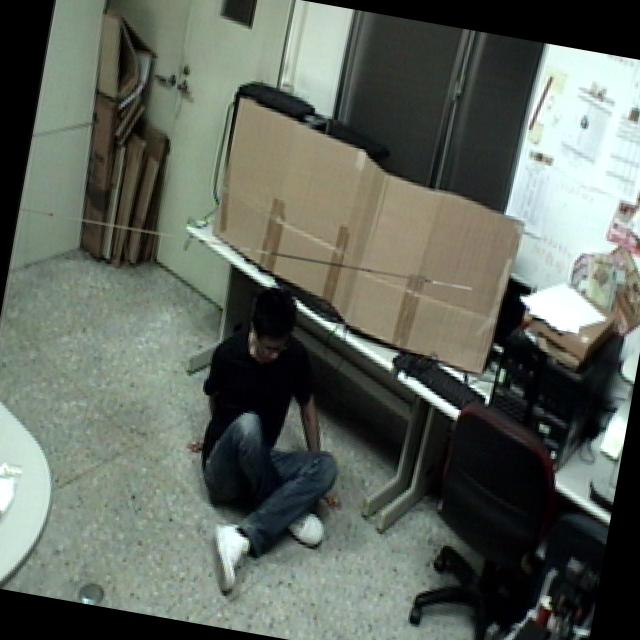sit: (159, 270, 380, 616)
